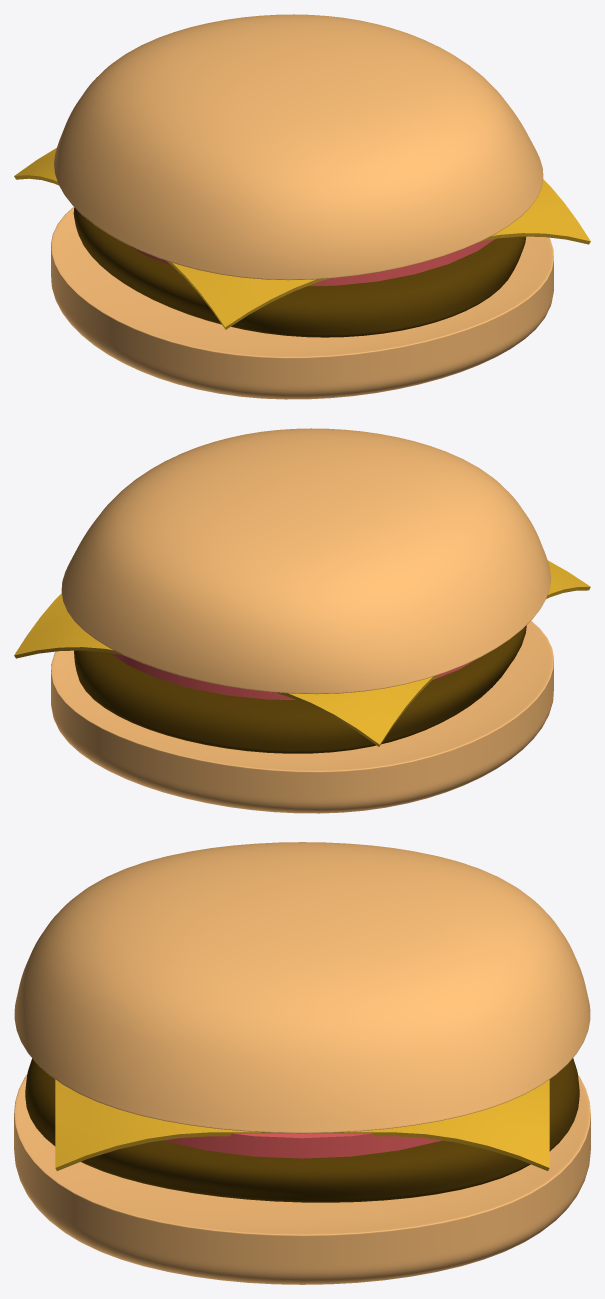
Rendered from hamburger.glb.
The picture shows the model from 3 angles, top to bottom: view 1: azimuth 30°, elevation 25°; view 2: azimuth 150°, elevation 25°; view 3: azimuth 270°, elevation 25°; orthographic projection. The views are drawn at different scales.
Visible parts, largest first — view 1: Cube.002, Cube, Cube.001, Plane, Cylinder; view 2: Cube.002, Cube, Cube.001, Plane, Cylinder; view 3: Cube.002, Cube, Cube.001, Plane, Cylinder.
Part boxes in pixels (x1,y1,x2,y2): Cube.002: (54, 14, 543, 280); Cube: (51, 207, 553, 399); Cube.001: (73, 207, 525, 337); Plane: (14, 148, 590, 329); Cylinder: (128, 239, 494, 285); Cube.002: (61, 428, 550, 694); Cube: (51, 621, 553, 813); Cube.001: (74, 625, 526, 753); Plane: (14, 560, 590, 746); Cylinder: (110, 653, 476, 699); Cube.002: (14, 842, 590, 1133); Cube: (14, 1074, 590, 1284); Cube.001: (25, 1058, 579, 1202); Plane: (55, 1079, 549, 1170); Cylinder: (163, 1133, 441, 1158).
Bounding box in the file's own units: 9.24 × 5.17 × 9.24.
